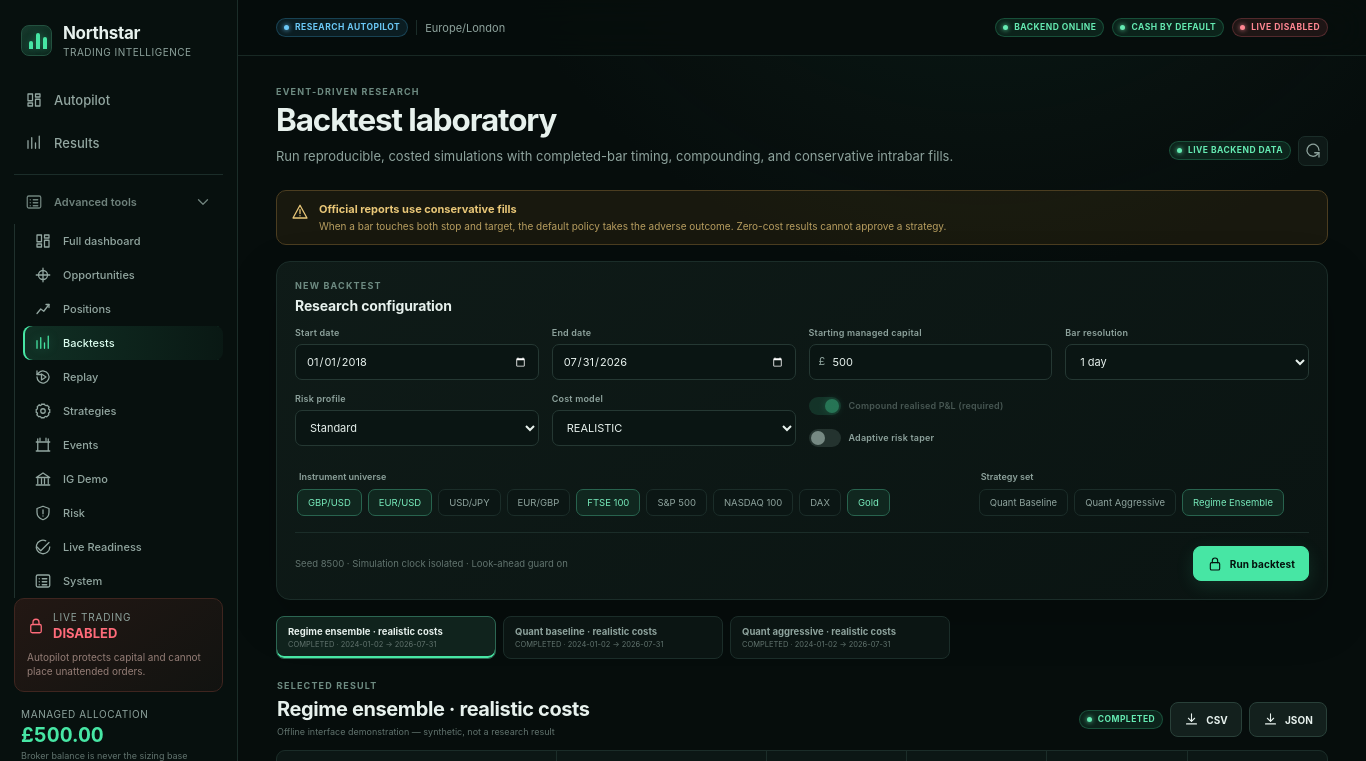
trading dashboard › keeps reachable authentication errors online and announces them
expect the text "Backend online" is shown: met, box [995,18,1104,37]
Click the button "Run backtest". click: (1251, 564)
box: [1193,546,1309,581]
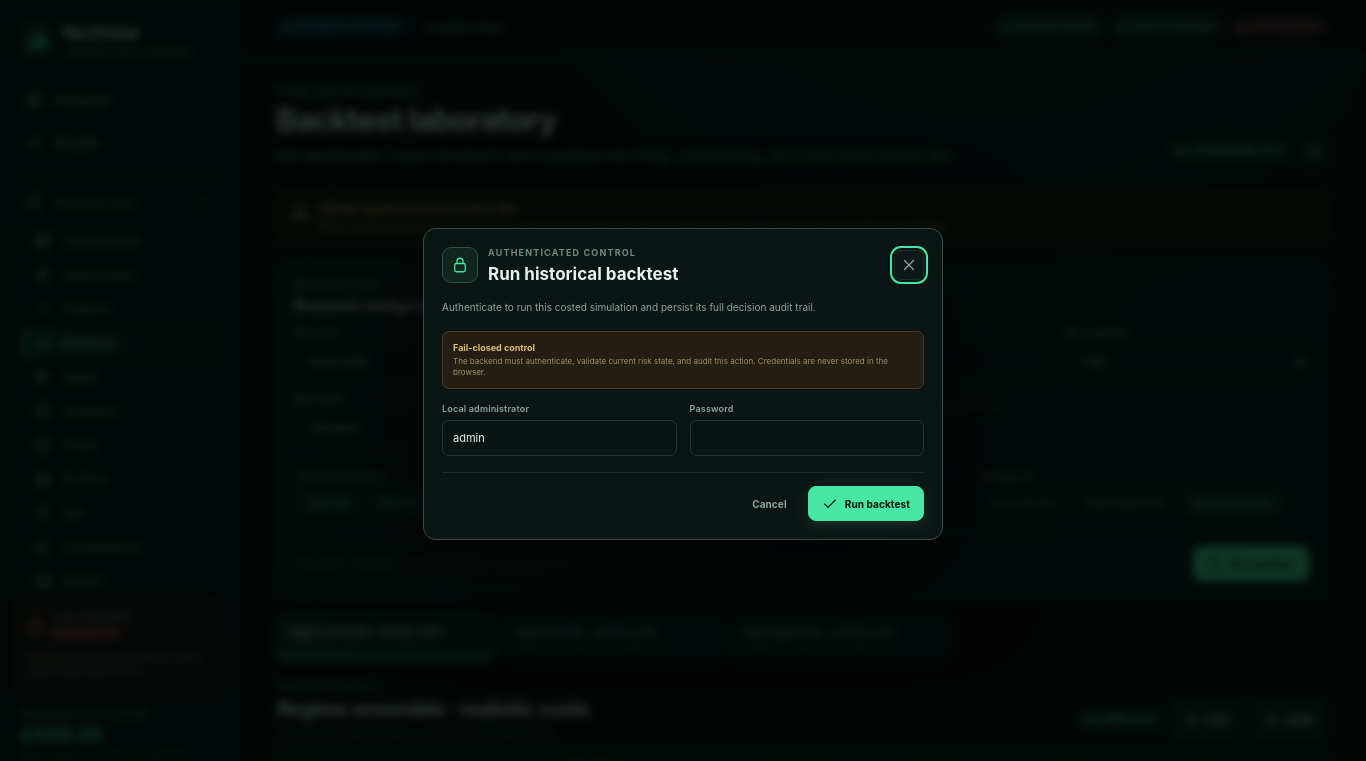
Type "incorrect" into the password field labelled "Password". click: (807, 438)
box: [690,420,924,456]
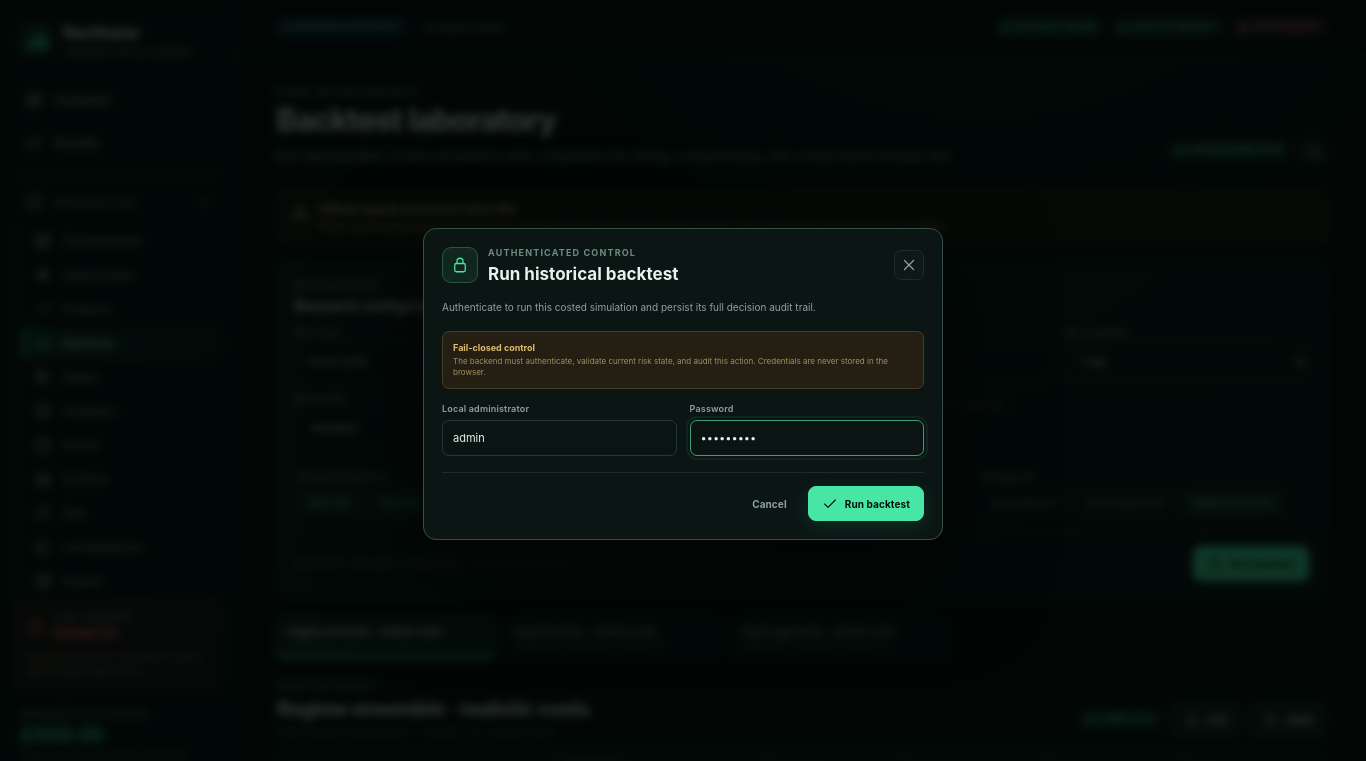
Click the button "Run backtest" below "Password". click: (866, 504)
box: [808,486,924,521]
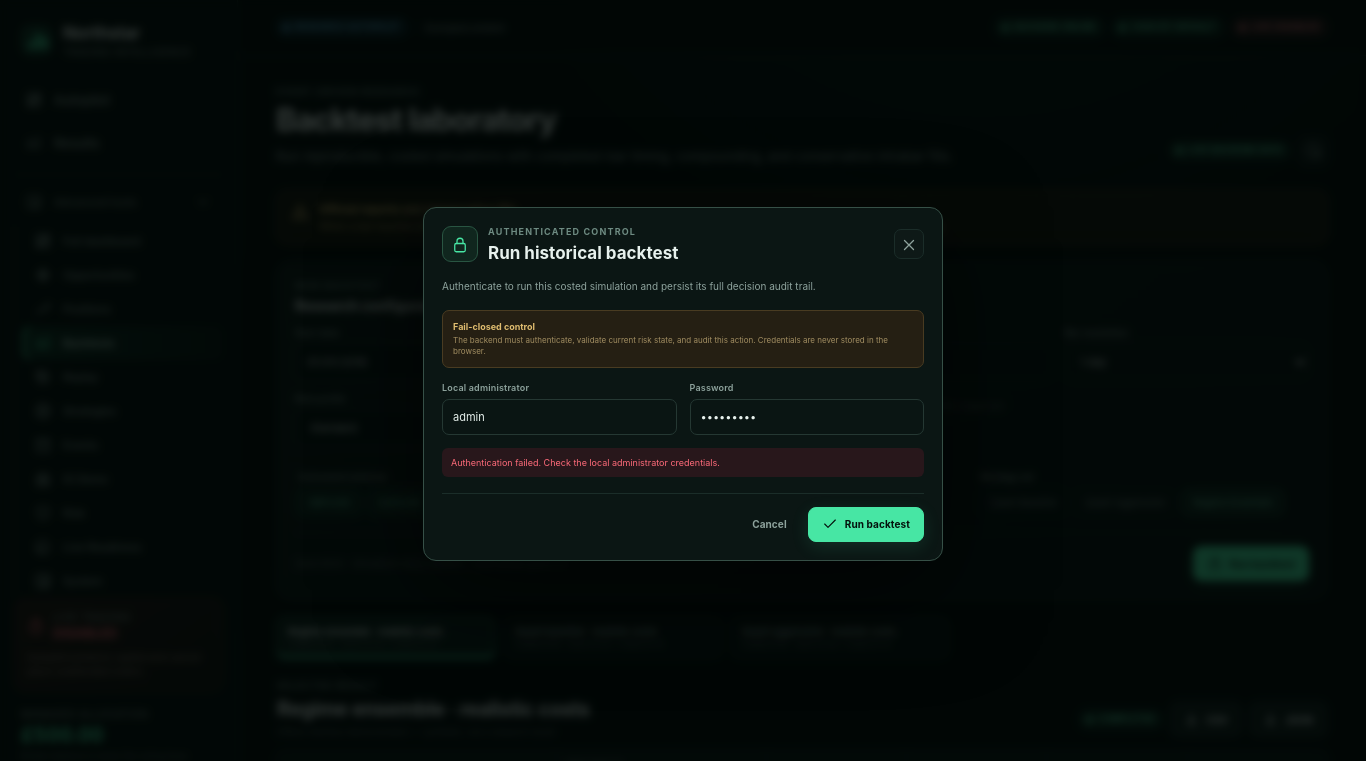
expect the message shows "Authentication failed": met, box [451,457,720,468]
